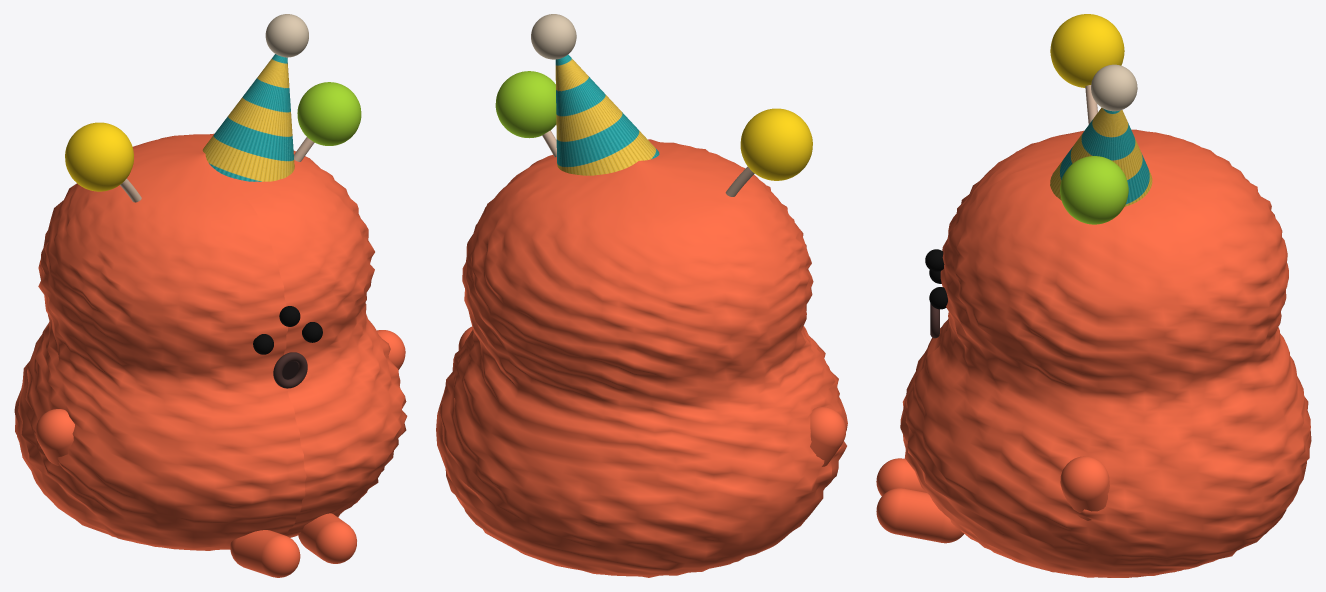
File: felt_monster_avatar.glb
3 views of the same model, side by side, from view 1: azimuth 30°, elevation 25°; view 2: azimuth 150°, elevation 25°; view 3: azimuth 270°, elevation 25° (orthographic). The views are drawn at different scales.
Visible parts, largest first — view 1: FeltMonsterAvatar_Export, Foot_Left, Foot_Right, Arm_Left, Arm_Right; view 2: FeltMonsterAvatar_Export, Arm_Left; view 3: FeltMonsterAvatar_Export, Foot_Right, Arm_Right, Foot_Left.
Part boxes in pixels (bbox=[...]): FeltMonsterAvatar_Export: bbox=[14, 14, 407, 550]; Foot_Left: bbox=[230, 530, 300, 577]; Foot_Right: bbox=[298, 513, 356, 563]; Arm_Left: bbox=[35, 409, 74, 466]; Arm_Right: bbox=[377, 330, 405, 369]; FeltMonsterAvatar_Export: bbox=[436, 14, 847, 577]; Arm_Left: bbox=[810, 406, 845, 466]; FeltMonsterAvatar_Export: bbox=[900, 14, 1311, 577]; Foot_Right: bbox=[876, 488, 963, 543]; Arm_Right: bbox=[1060, 456, 1109, 520]; Foot_Left: bbox=[876, 458, 926, 496].
Size of the model in its own units: 3.28 by 4.03 by 3.17.
Materials: 11 (1 with a texture image).
